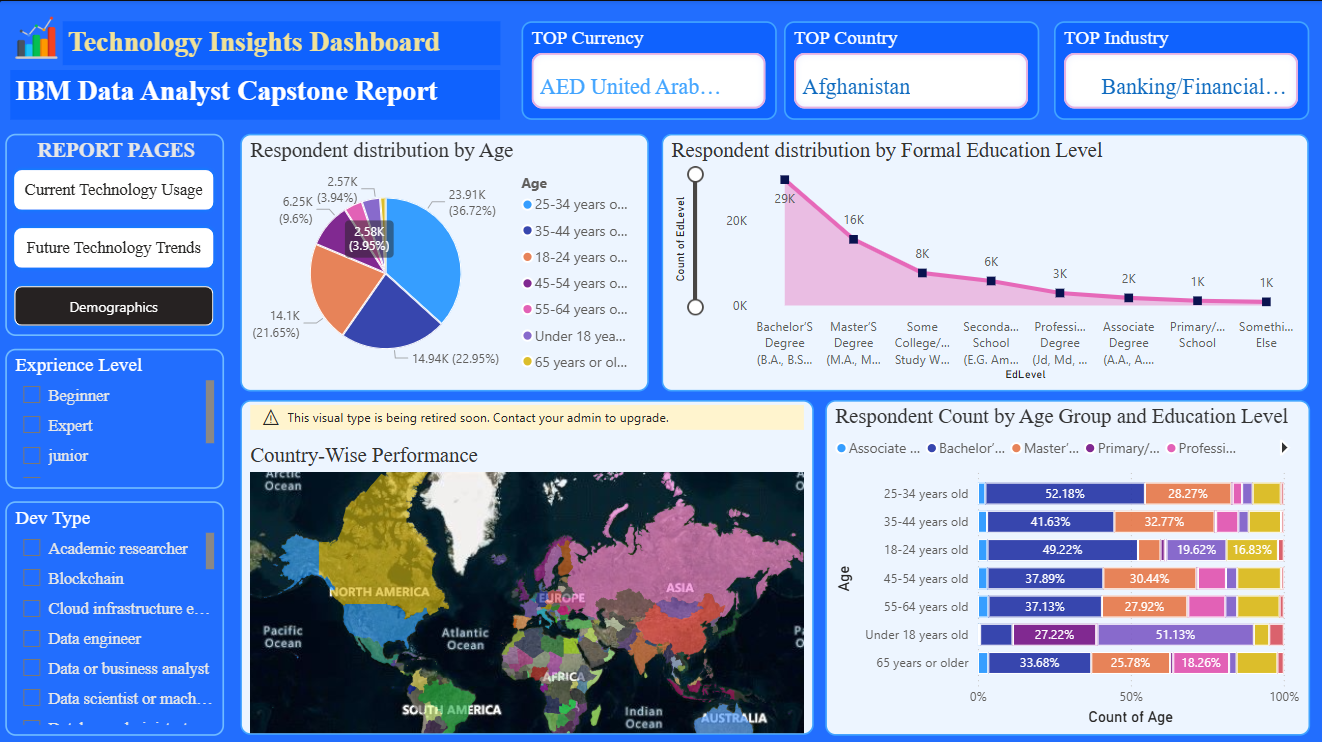

The page's visual inventory and layout, read from the dashboard file:
{"tool":"powerbi","page":{"name":"Demographics","canvas":[1280,720],"ordinal":2},"visuals":[{"type":"image","box":[10.9,9.7,50.7,53.1],"z":0},{"type":"textbox","box":[10.9,67.6,472.9,48.3],"z":1000},{"type":"pageNavigator","title":"REPORT PAGES","box":[6.1,128.7,210.9,194.9],"z":2000},{"type":"slicer","title":"Dev Type","fields":{"Values":["Exploratory_Data.DevType"]},"box":[5.7,483.2,211,226.6],"z":3000},{"type":"slicer","title":"Exprience Level","fields":{"Values":["Exploratory_Data.ExperienceLevel"]},"box":[5.7,336.4,211,135.4],"z":4000},{"type":"cardVisual","title":"TOP Currency","fields":{"Data":["Min(Exploratory_Data.Currency)"]},"box":[504.3,20.5,246.1,95.3],"z":5000},{"type":"cardVisual","title":"TOP Country","fields":{"Data":["Min(Exploratory_Data.Country)"]},"box":[757.6,20.5,246.1,95.3],"z":6000},{"type":"cardVisual","title":"TOP Industry","fields":{"Data":["Min(Exploratory_Data.Industry)"]},"box":[1017.7,20,246.6,95.5],"z":7000},{"type":"filledMap","title":"Country-Wise Performance","fields":{"Category":["Exploratory_Data.Country"],"Series":["Exploratory_Data.Country"]},"box":[624.4,129,640.8,247],"z":9000},{"type":"textbox","box":[61.5,20.5,422.3,42.2],"z":14000},{"type":"pieChart","title":"Respondent distribution by Age","fields":{"Category":["Exploratory_Data.Age"],"Y":["CountNonNull(Exploratory_Data.Age)"]},"box":[232.8,129.1,378.8,248.5],"z":14001},{"type":"lineChart","title":"Respondent distribution by Formal Education Level","fields":{"Category":["Exploratory_Data.EdLevel"],"Y":["CountNonNull(Exploratory_Data.EdLevel)"]},"box":[233.3,385.6,551.6,323.8],"z":14002},{"type":"hundredPercentStackedBarChart","title":"Respondent Count by Age Group and Education Level","fields":{"Category":["Exploratory_Data.Age"],"Series":["Exploratory_Data.EdLevel"],"Y":["CountNonNull(Exploratory_Data.Age)"]},"box":[797.3,385.6,467.9,323.8],"z":14003}]}

Visuals, with their boxes in screenshot pixels (x1, y1, x2, y2), scaled from the page's 1280x720 canvas onto the 1322x742 screenshot:
image: BBox(11, 10, 64, 65)
textbox: BBox(11, 70, 500, 119)
"REPORT PAGES" pageNavigator: BBox(6, 133, 224, 333)
"Dev Type" slicer: BBox(6, 498, 224, 731)
"Exprience Level" slicer: BBox(6, 347, 224, 486)
"TOP Currency" cardVisual: BBox(521, 21, 775, 119)
"TOP Country" cardVisual: BBox(782, 21, 1037, 119)
"TOP Industry" cardVisual: BBox(1051, 21, 1306, 119)
"Country-Wise Performance" filledMap: BBox(645, 133, 1307, 387)
textbox: BBox(64, 21, 500, 65)
"Respondent distribution by Age" pieChart: BBox(240, 133, 632, 389)
"Respondent distribution by Formal Education Level" lineChart: BBox(241, 397, 811, 731)
"Respondent Count by Age Group and Education Level" hundredPercentStackedBarChart: BBox(823, 397, 1307, 731)
